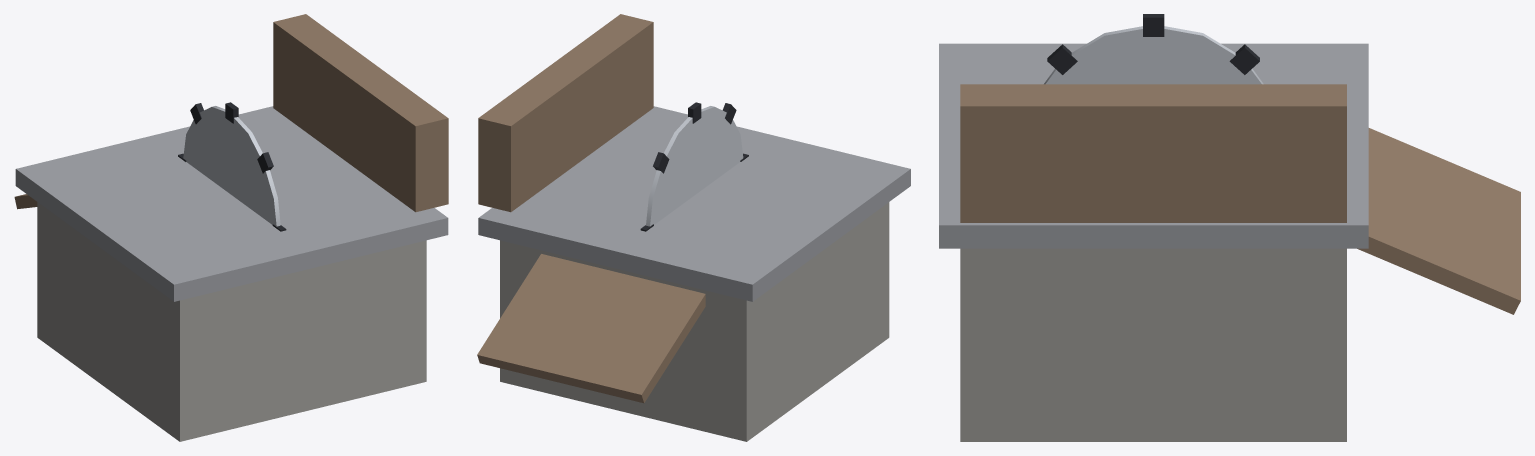
The model's file is build_sawmill.glb.
The picture shows the model from 3 angles, left to right: view 1: azimuth 30°, elevation 25°; view 2: azimuth 150°, elevation 25°; view 3: azimuth 270°, elevation 25°; orthographic projection. The views are drawn at different scales.
Visible parts, largest first — view 1: Baked, _MeshInstance3D_432; view 2: Baked, _MeshInstance3D_432; view 3: Baked, _MeshInstance3D_432.
Boxes of the visible parts, box(x1,y1,x2,y2) form: Baked: box(14, 14, 448, 441); _MeshInstance3D_432: box(183, 106, 280, 226); Baked: box(477, 14, 910, 441); _MeshInstance3D_432: box(646, 106, 743, 226); Baked: box(939, 43, 1520, 441); _MeshInstance3D_432: box(1044, 26, 1263, 84).
Bounding box in the file's own units: 1.03 × 0.9 × 1.36.
